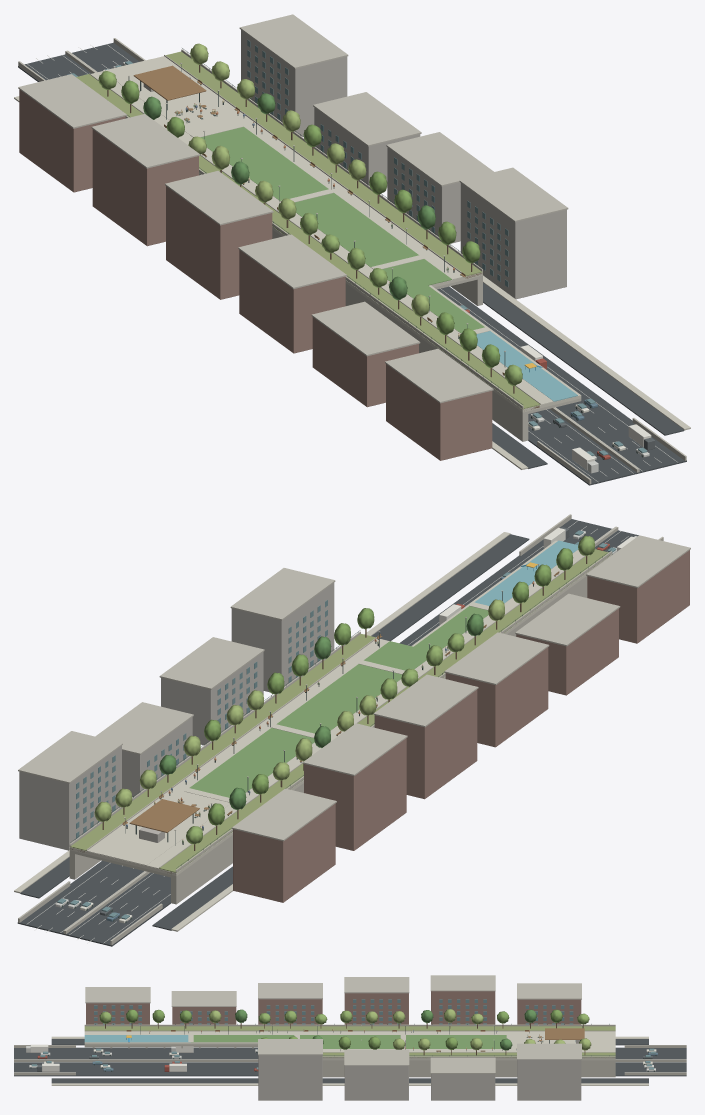
Rendered from deegan-garden-deck-cutaway.glb.
3 views of the same model, one above another, from view 1: azimuth 30°, elevation 25°; view 2: azimuth 150°, elevation 25°; view 3: azimuth 270°, elevation 25° (orthographic). The views are drawn at different scales.
Parts seen in each view (by area): view 1: Six-lane roadway, Context building.008, Context building.004, Context building.003, Context building, Context building.002, Context building.011, Context building.005, Context building.001, Illustrative adjacent street.001, Building roof coping.005, Building roof coping.008 (+14 smaller); view 2: Six-lane roadway, Context building.005, Context building.004, Context building.011, Context building.003, Context building.008, Context building.002, Context building, Context building.001, Illustrative adjacent street.001, Context building.009, Building roof coping.004 (+14 smaller); view 3: Six-lane roadway, Context building.008, Context building.011, Context building.009, Illustrative adjacent street.001, Context building.004, Context building.010, Context building.003, Context building.005, Context building.002, Building roof coping, Building roof coping.003 (+21 smaller).
Boxes of the visible parts, x1,y1,x2,y2 form: Six-lane roadway: [18, 42, 686, 485]; Context building.008: [460, 183, 566, 299]; Context building.004: [92, 129, 198, 246]; Context building.003: [166, 186, 272, 299]; Context building: [386, 364, 492, 460]; Context building.002: [239, 250, 345, 353]; Context building.011: [241, 30, 347, 136]; Context building.005: [19, 89, 125, 192]; Context building.001: [312, 317, 418, 407]; Illustrative adjacent street.001: [483, 283, 684, 435]; Building roof coping.005: [18, 74, 126, 128]; Building roof coping.008: [459, 167, 568, 222]; Six-lane roadway: [17, 519, 638, 946]; Context building.005: [233, 803, 335, 902]; Context building.004: [304, 738, 406, 850]; Context building.011: [19, 746, 121, 850]; Context building.003: [374, 689, 477, 799]; Context building.008: [231, 583, 334, 692]; Context building.002: [445, 647, 548, 747]; Context building: [587, 550, 689, 643]; Context building.001: [516, 608, 618, 695]; Illustrative adjacent street.001: [20, 534, 529, 898]; Context building.009: [161, 652, 263, 745]; Building roof coping.004: [302, 723, 407, 775]; Six-lane roadway: [14, 1047, 686, 1076]; Context building.008: [258, 1055, 322, 1100]; Context building.011: [517, 1059, 581, 1100]; Context building.009: [344, 1065, 408, 1100]; Illustrative adjacent street.001: [51, 1078, 648, 1083]; Context building.004: [431, 991, 495, 1024]; Context building.010: [431, 1074, 495, 1100]; Context building.003: [344, 993, 408, 1024]; Context building.005: [517, 999, 581, 1024]; Context building.002: [258, 999, 322, 1024]; Building roof coping: [85, 987, 150, 1003]; Building roof coping.003: [344, 977, 409, 993].
Size of the model in its own units: 84.4 by 23.7 by 306.
